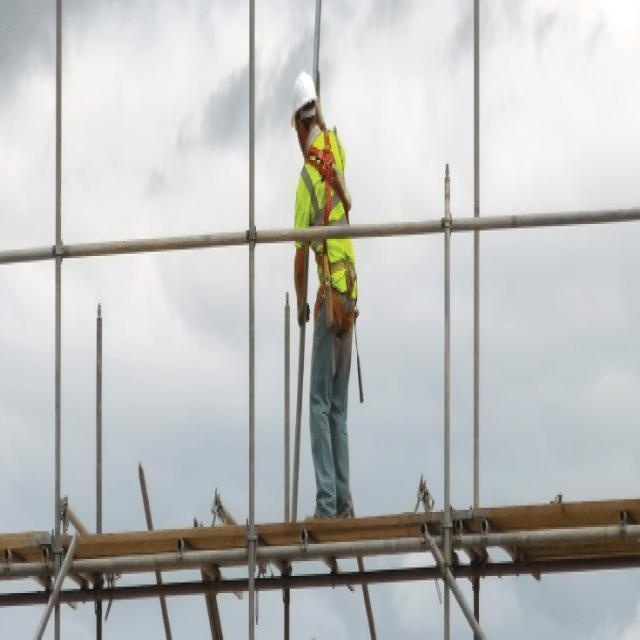Arnes_seguridad: (302, 128, 362, 342)
